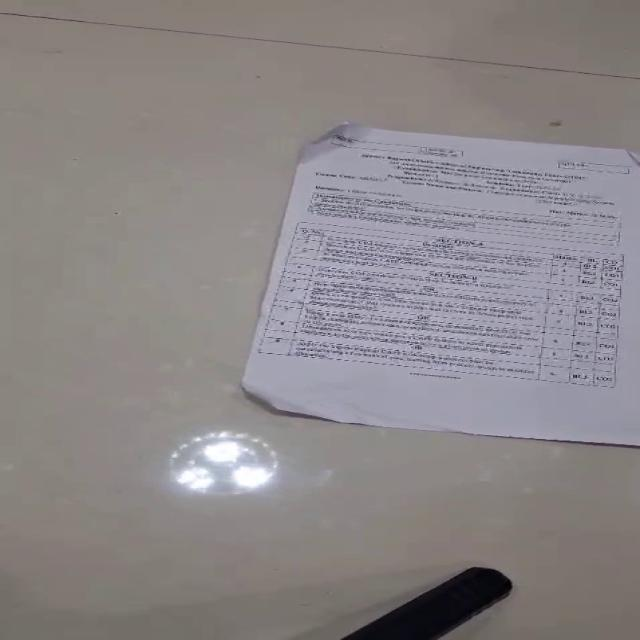paper: (240, 120, 638, 447)
